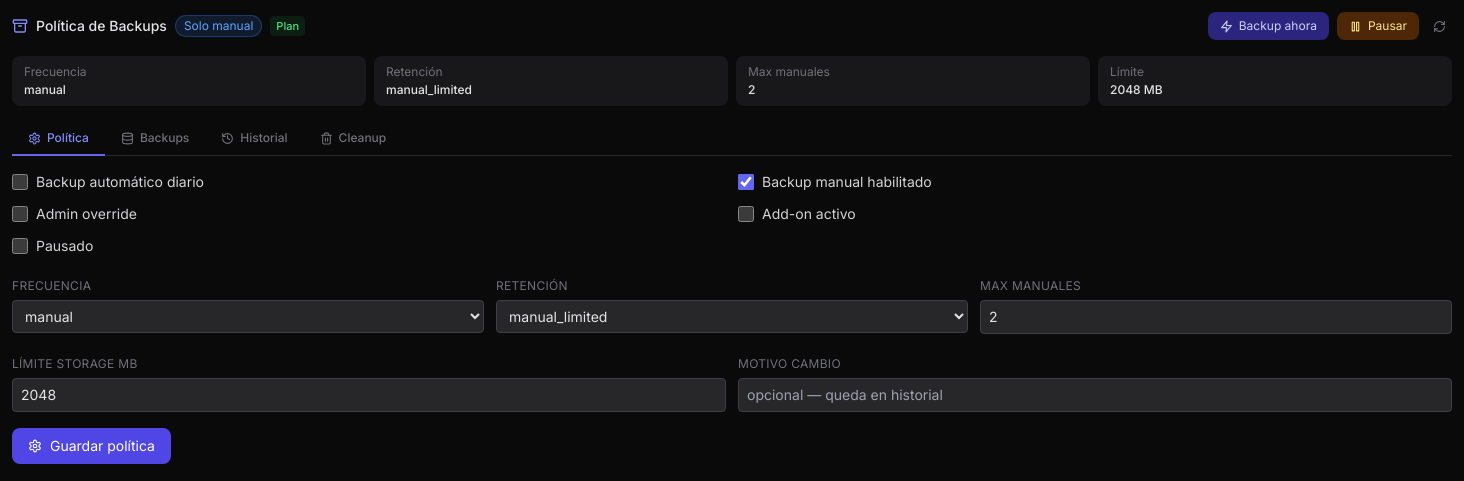
BackupPolicyPanel › 8 — History tab renders with empty state message
Step 1. Click the button "Historial" → (254, 139), box x1=205 y1=122 x2=304 y2=156
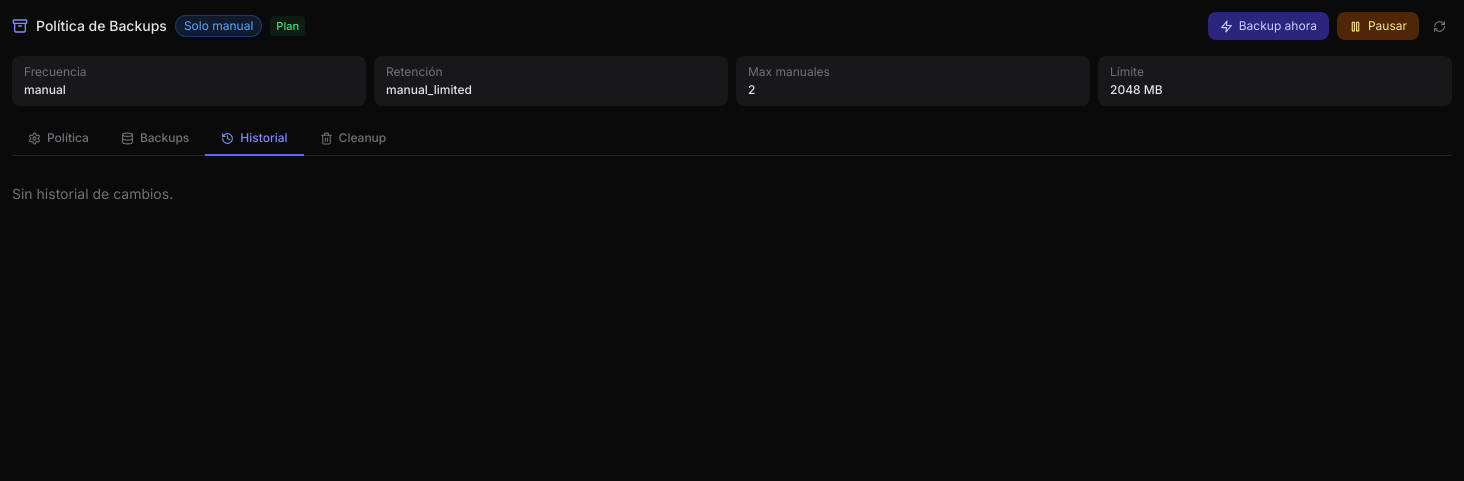
Expected: the text "Sin historial de cambios." is shown, x1=12 y1=185 x2=173 y2=202
